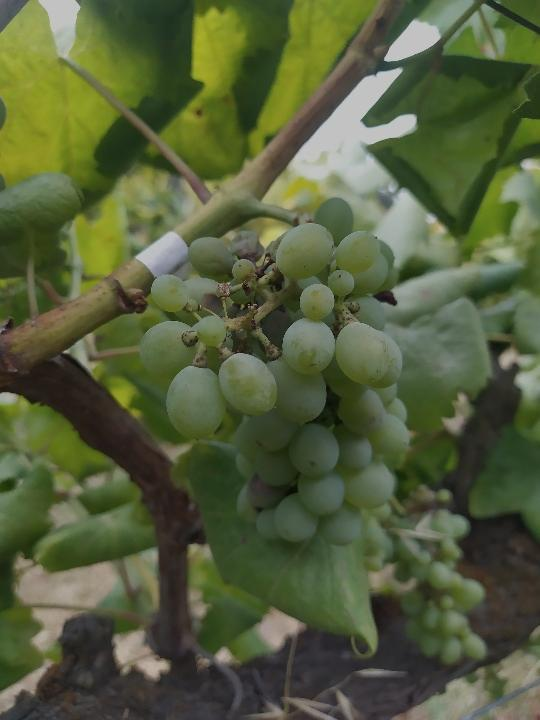grape: (136, 188, 431, 548)
